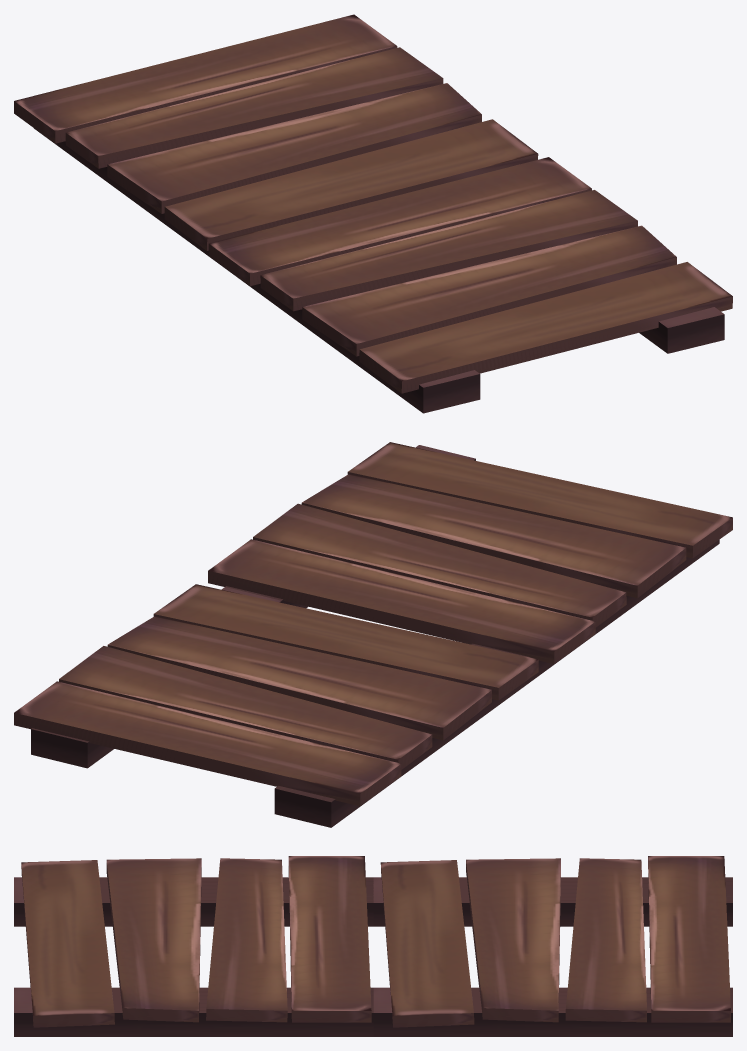
Rendered from bridge_2.gltf.
3 views of the same model, one above another, from view 1: azimuth 30°, elevation 25°; view 2: azimuth 150°, elevation 25°; view 3: azimuth 270°, elevation 25° (orthographic). The views are drawn at different scales.
Parts seen in each view (by area): view 1: Bridge2; view 2: Bridge2; view 3: Bridge2.
Boxes of the visible parts, x1,y1,x2,y2 form: Bridge2: [14, 14, 732, 413]; Bridge2: [14, 442, 732, 827]; Bridge2: [14, 856, 732, 1036].
Size of what is drawn, in the model's own units: 1.02 by 0.1097 by 2.
Materials: 1 (1 with a texture image).
